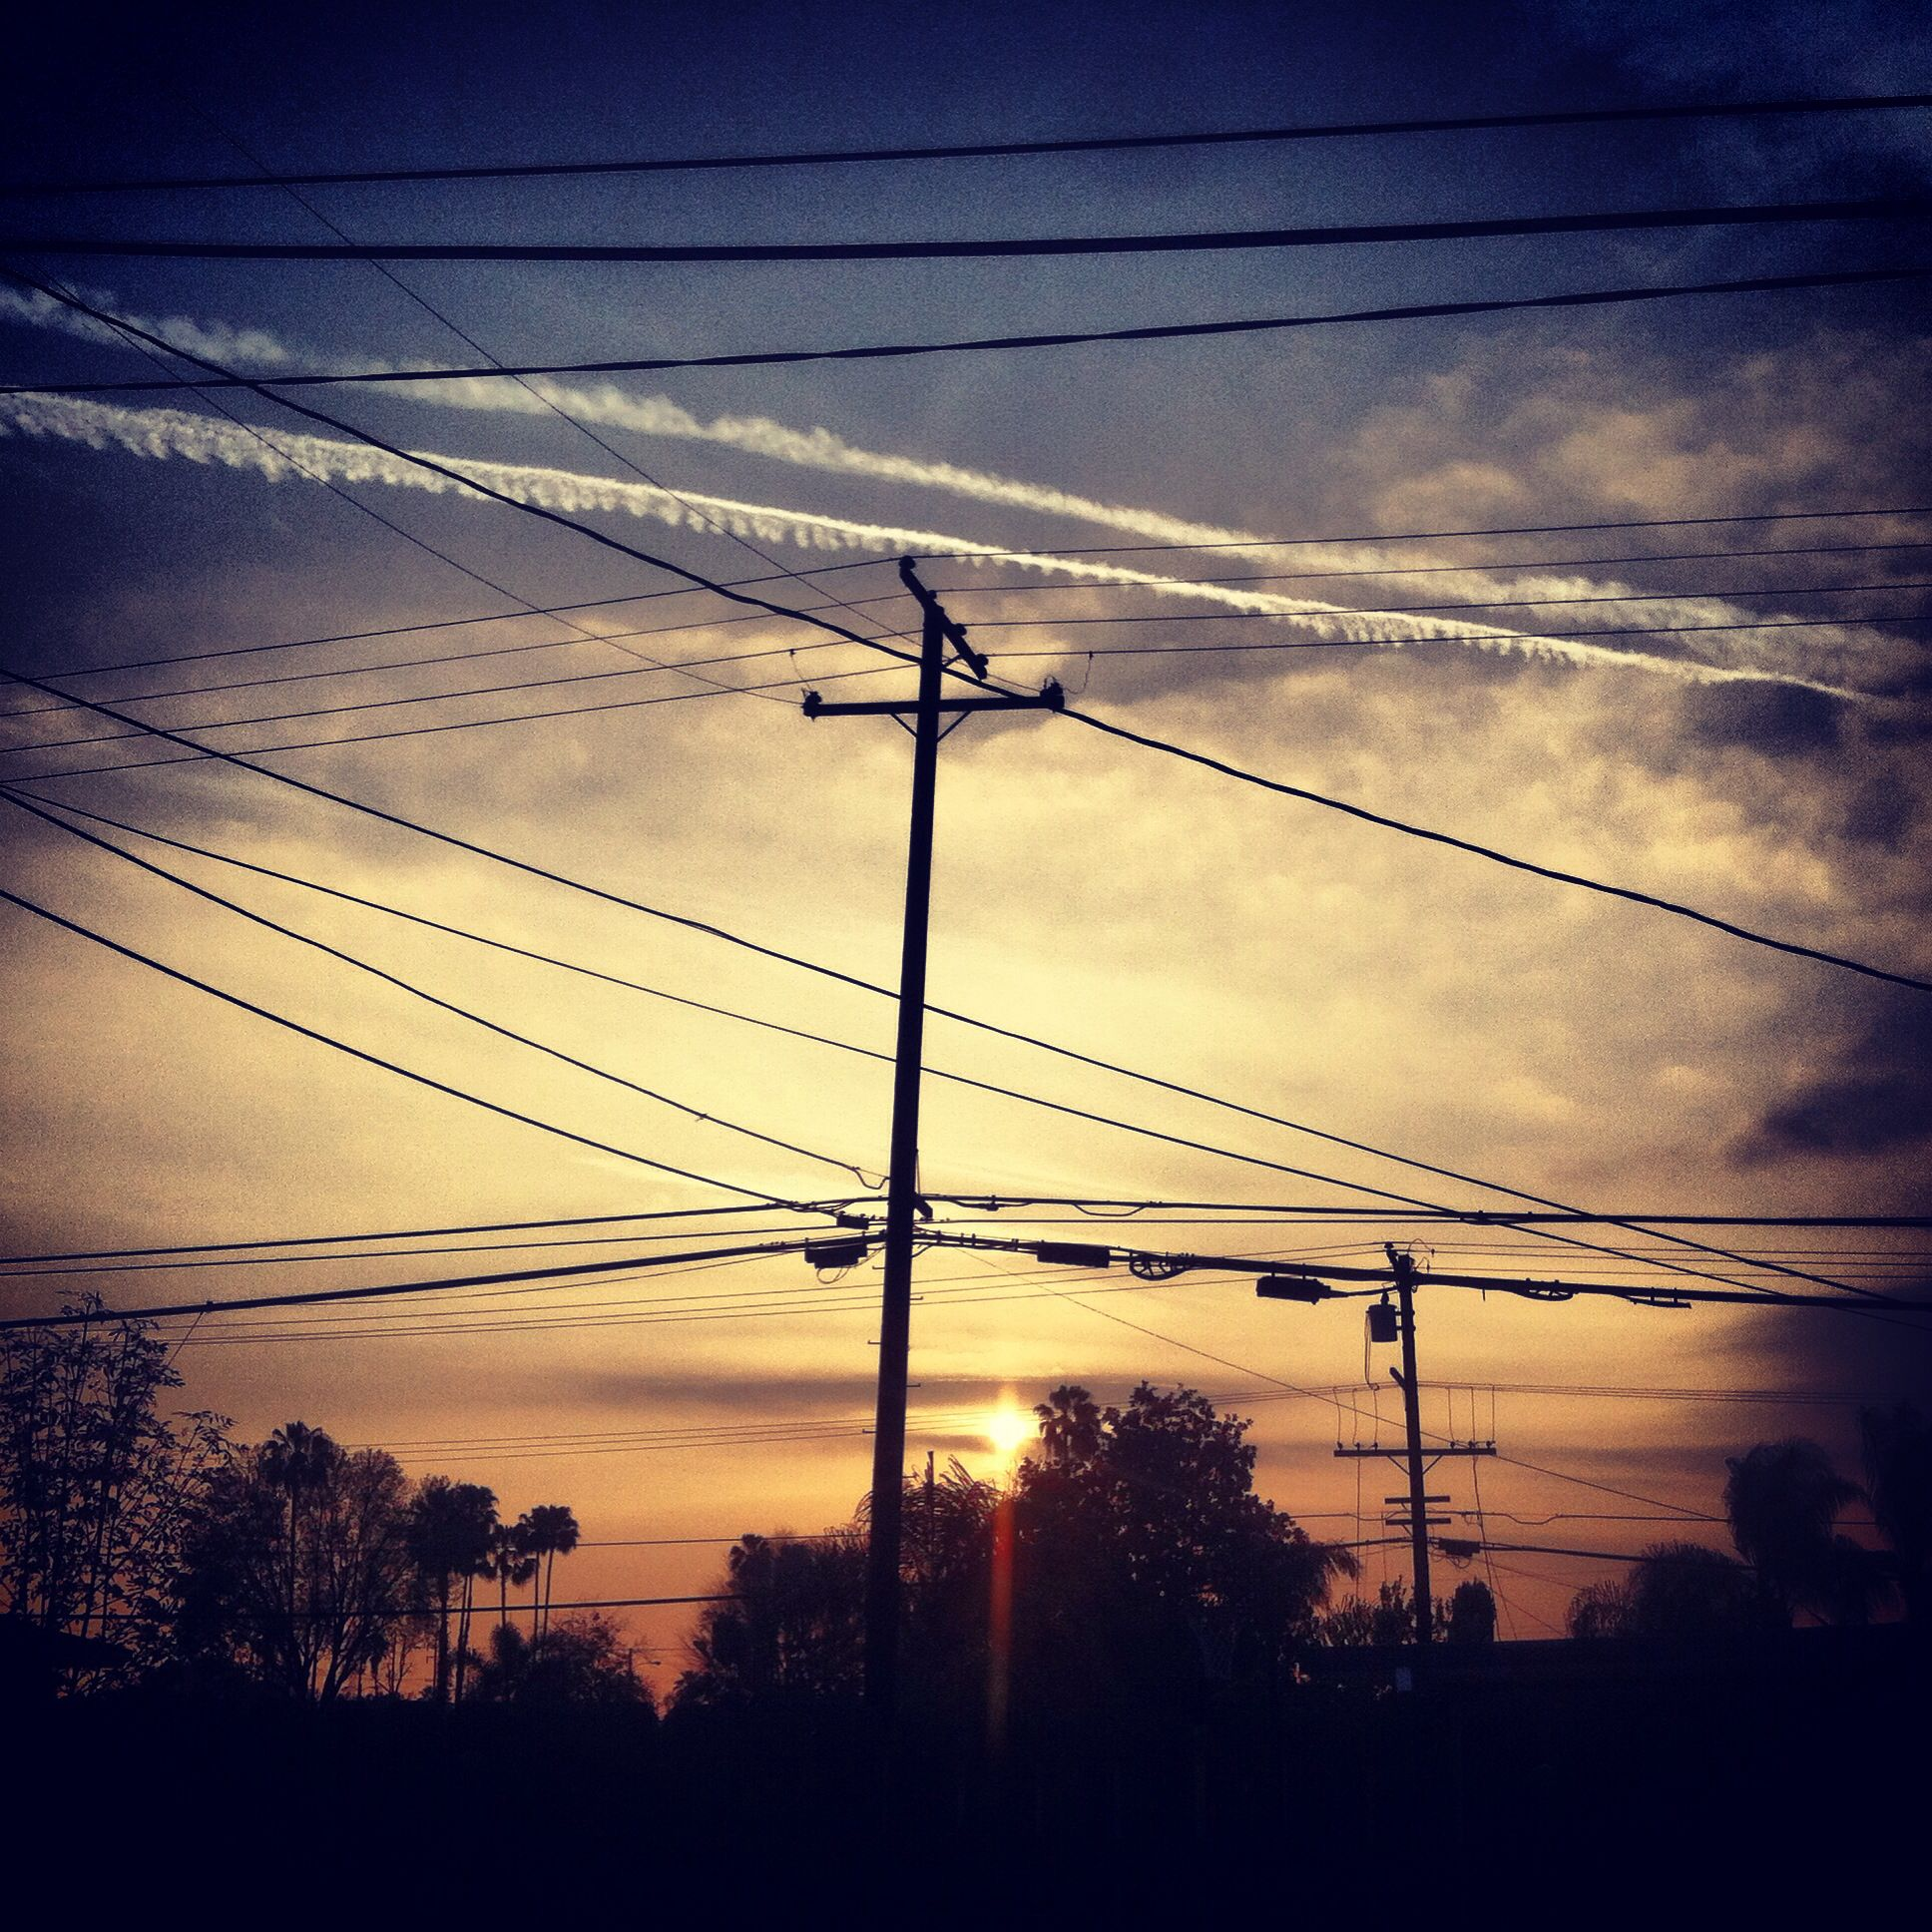utility_pole: (770, 525, 1086, 809)
